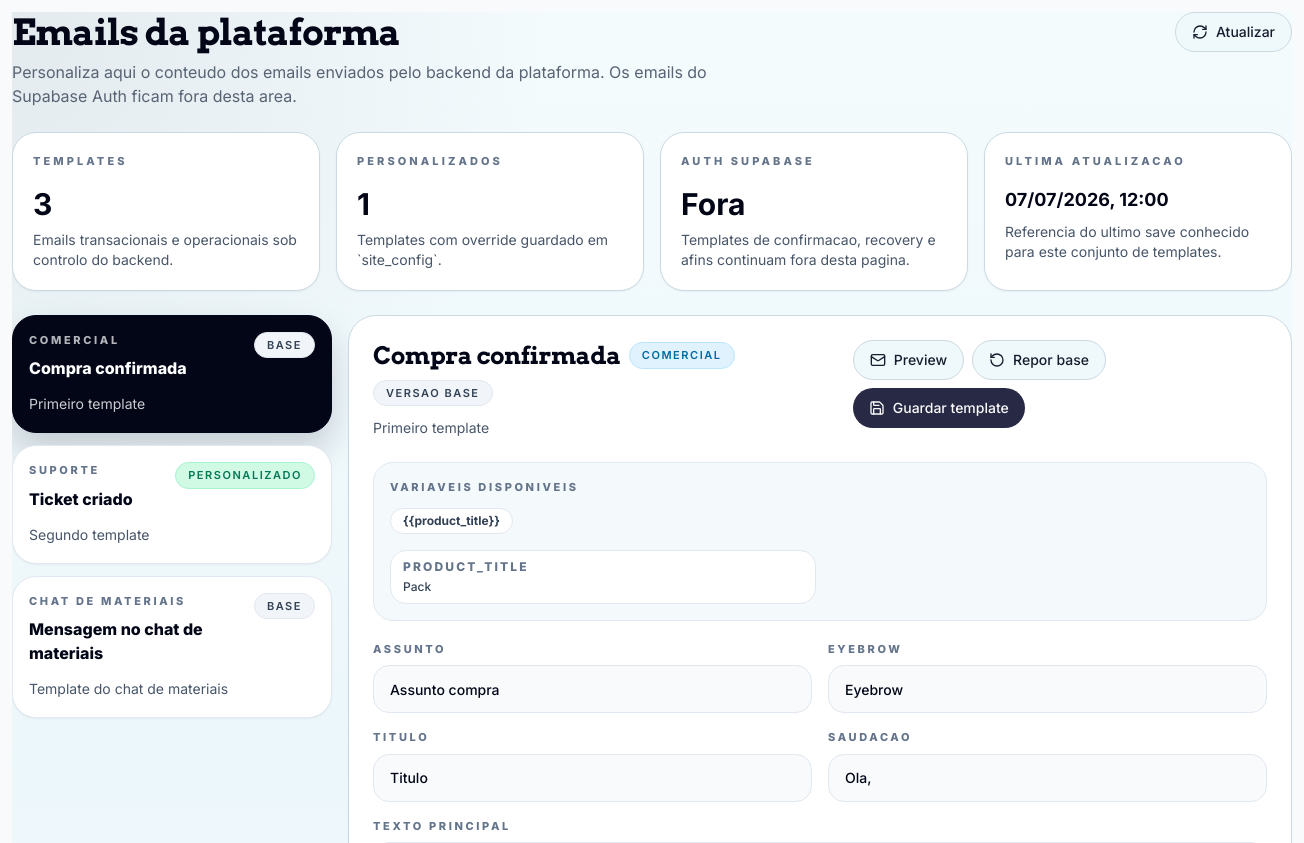
AdminEmails › keeps the material chat template available in the editor
Click the button "Mensagem no chat de materiais": [107, 600] box [12, 576, 332, 718]
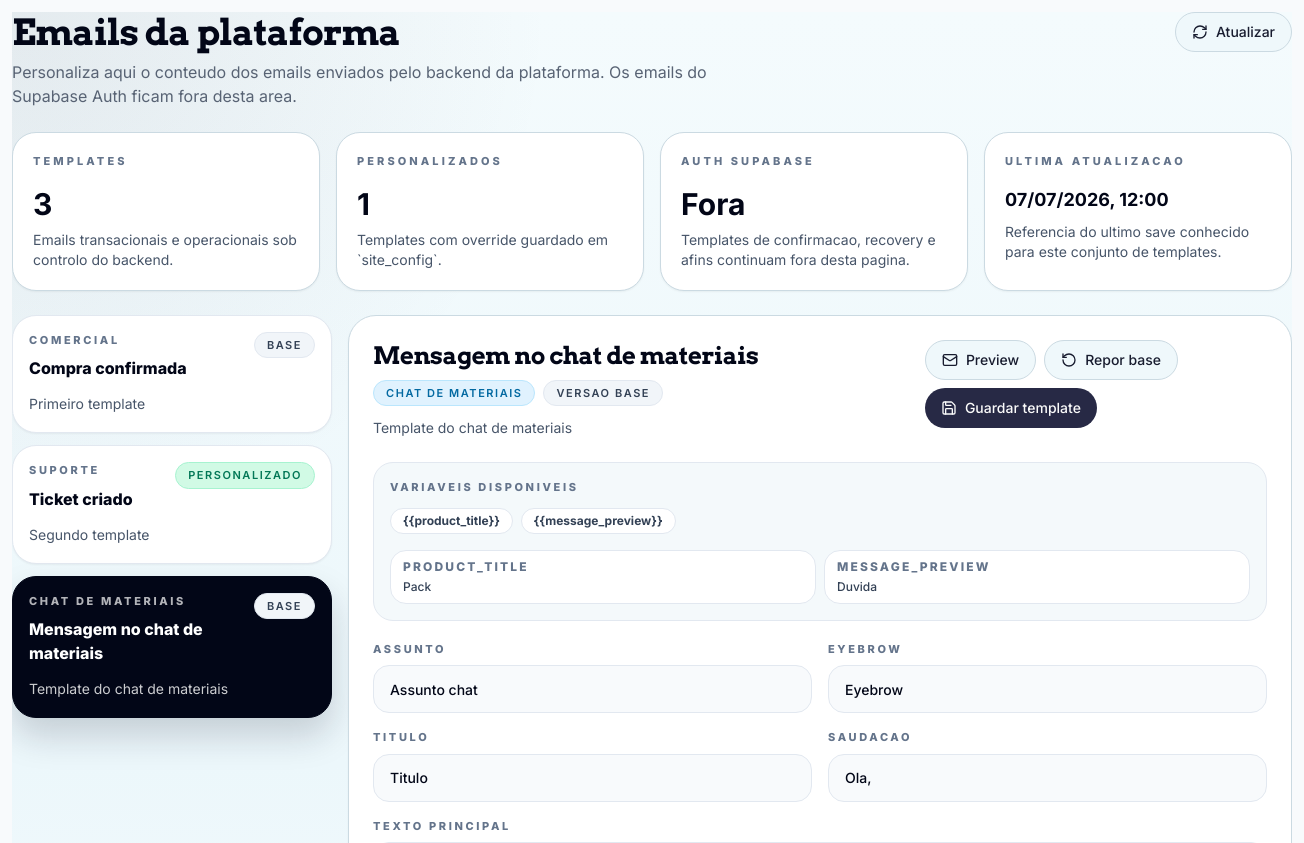
Expected: the field showing "Titulo" is shown, [373, 754, 812, 802]
Result: the field showing "Assunto chat" is shown at [373, 665, 812, 713]
